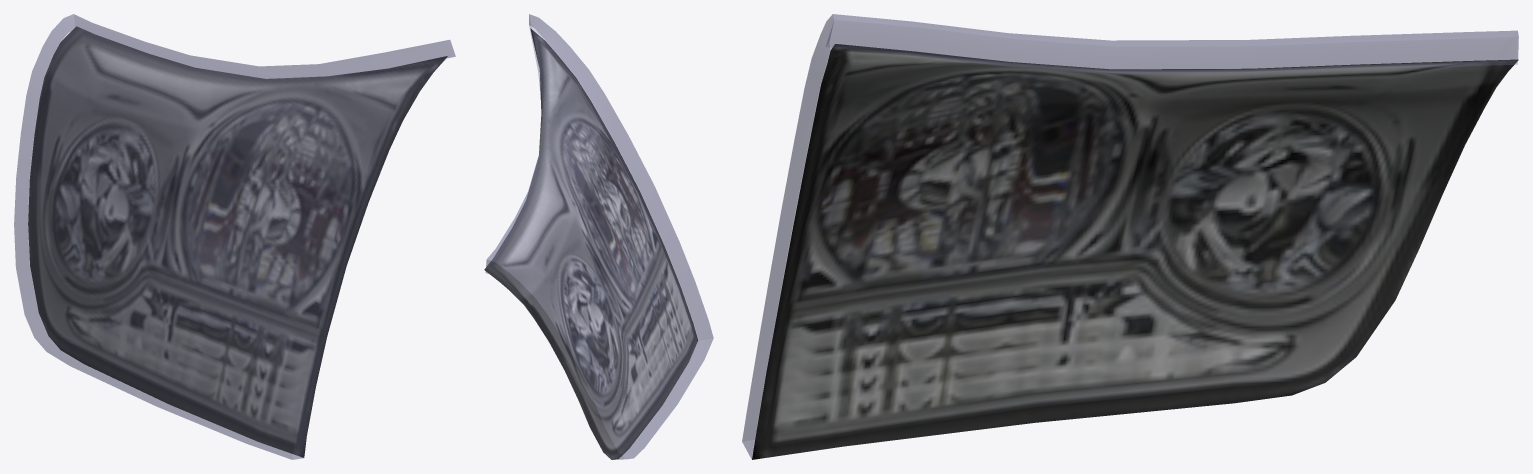
The picture shows the model from 3 angles, left to right: view 1: azimuth 30°, elevation 25°; view 2: azimuth 150°, elevation 25°; view 3: azimuth 270°, elevation 25°; orthographic projection. The views are drawn at different scales.
Parts seen in each view (by area): view 1: LX61_541D_R_LX61_541D_R_2_DTaSI, LX61_541D_R_1_N_LX61_541D_R; view 2: LX61_541D_R_LX61_541D_R_2_DTaSI, LX61_541D_R_1_N_LX61_541D_R; view 3: LX61_541D_R_1_N_LX61_541D_R, LX61_541D_R_LX61_541D_R_2_DTaSI.
Part boxes in pixels (x1,y1,x2,y2): LX61_541D_R_LX61_541D_R_2_DTaSI: (14,14,455,459); LX61_541D_R_1_N_LX61_541D_R: (28,26,447,457); LX61_541D_R_LX61_541D_R_2_DTaSI: (485,14,713,459); LX61_541D_R_1_N_LX61_541D_R: (484,28,697,459); LX61_541D_R_1_N_LX61_541D_R: (752,44,1518,459); LX61_541D_R_LX61_541D_R_2_DTaSI: (742,14,1518,458).
Size of the model in its own units: 17.78 by 22.73 by 27.82.
